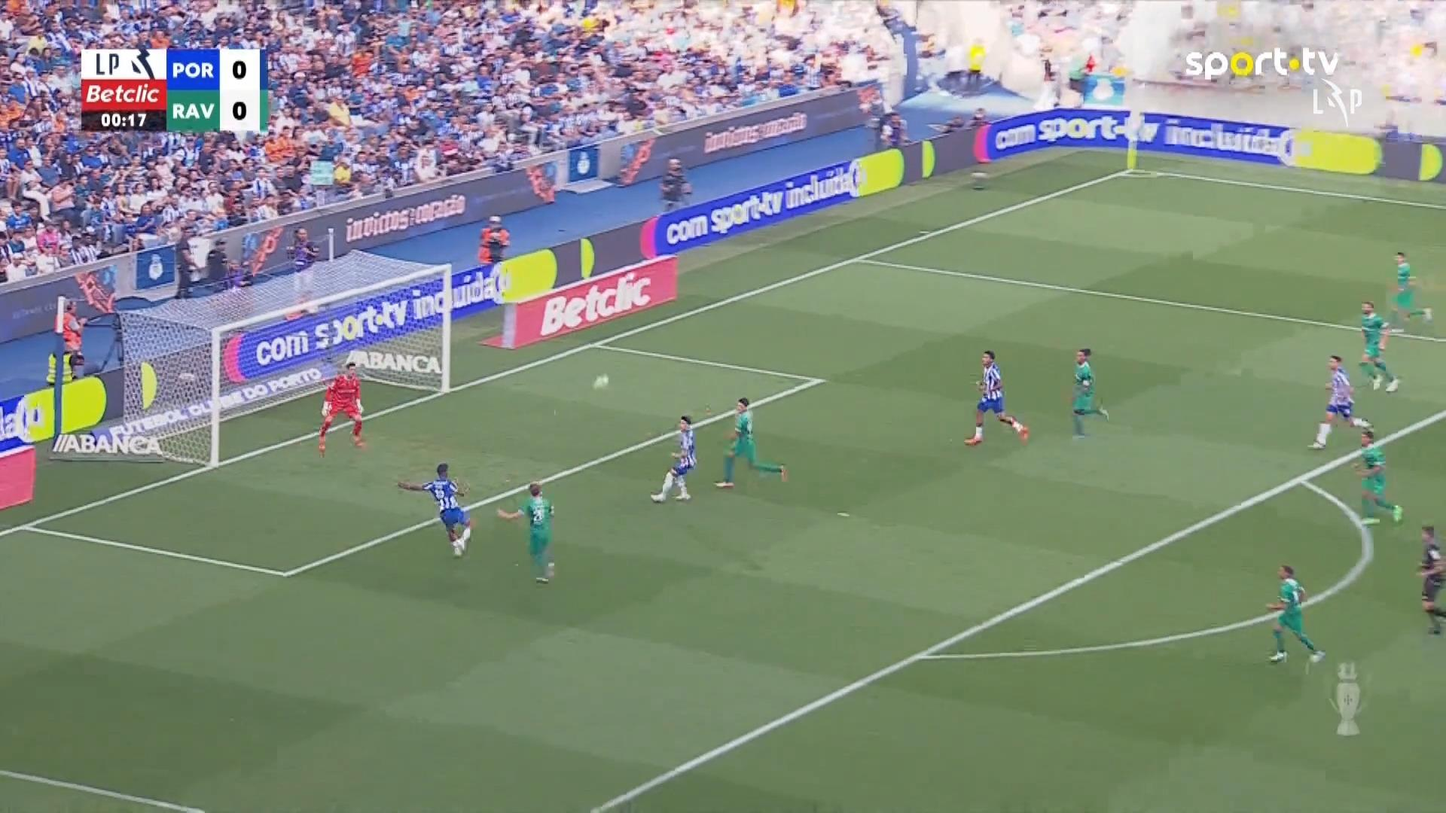ball: (592, 373, 608, 390), (1392, 504, 1402, 522)
goalkeeper: (316, 361, 367, 455)
player: (396, 461, 473, 558), (713, 396, 787, 489), (1307, 353, 1373, 449), (963, 349, 1028, 446), (496, 480, 556, 583), (1264, 564, 1326, 662), (1352, 426, 1403, 525), (649, 415, 697, 502), (1356, 300, 1400, 391), (1069, 347, 1109, 438), (1387, 250, 1433, 327)
referee: (1416, 523, 1444, 634)
